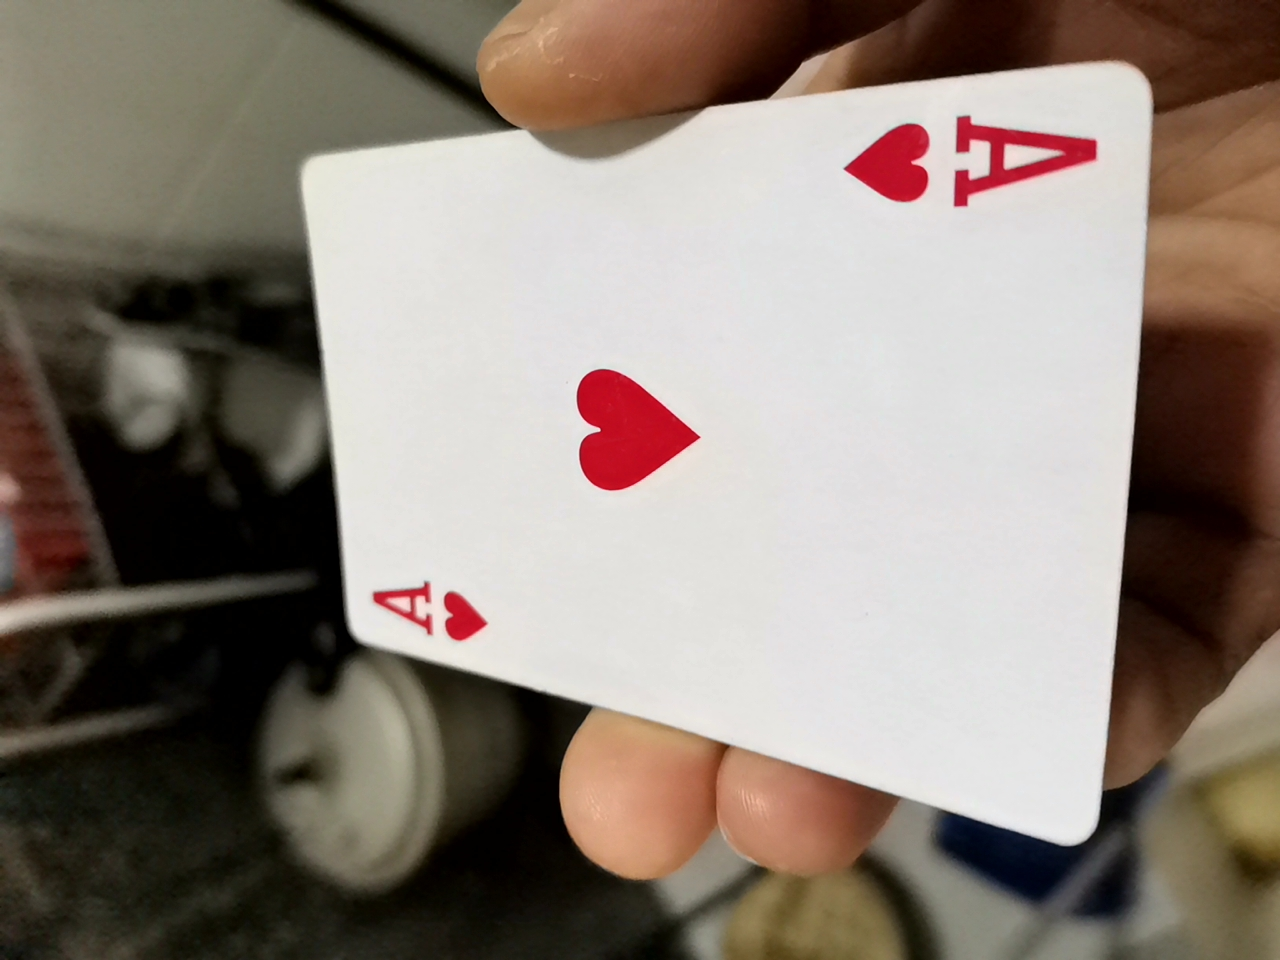hx a: (254, 97, 1189, 846)
